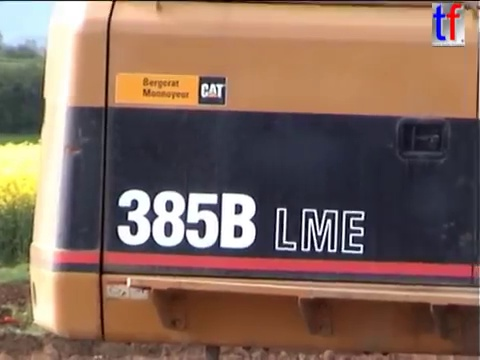excavator: (24, 1, 480, 357)
